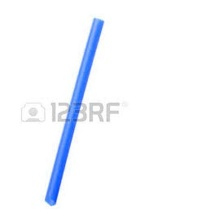drinking_straw: (38, 13, 109, 209)
